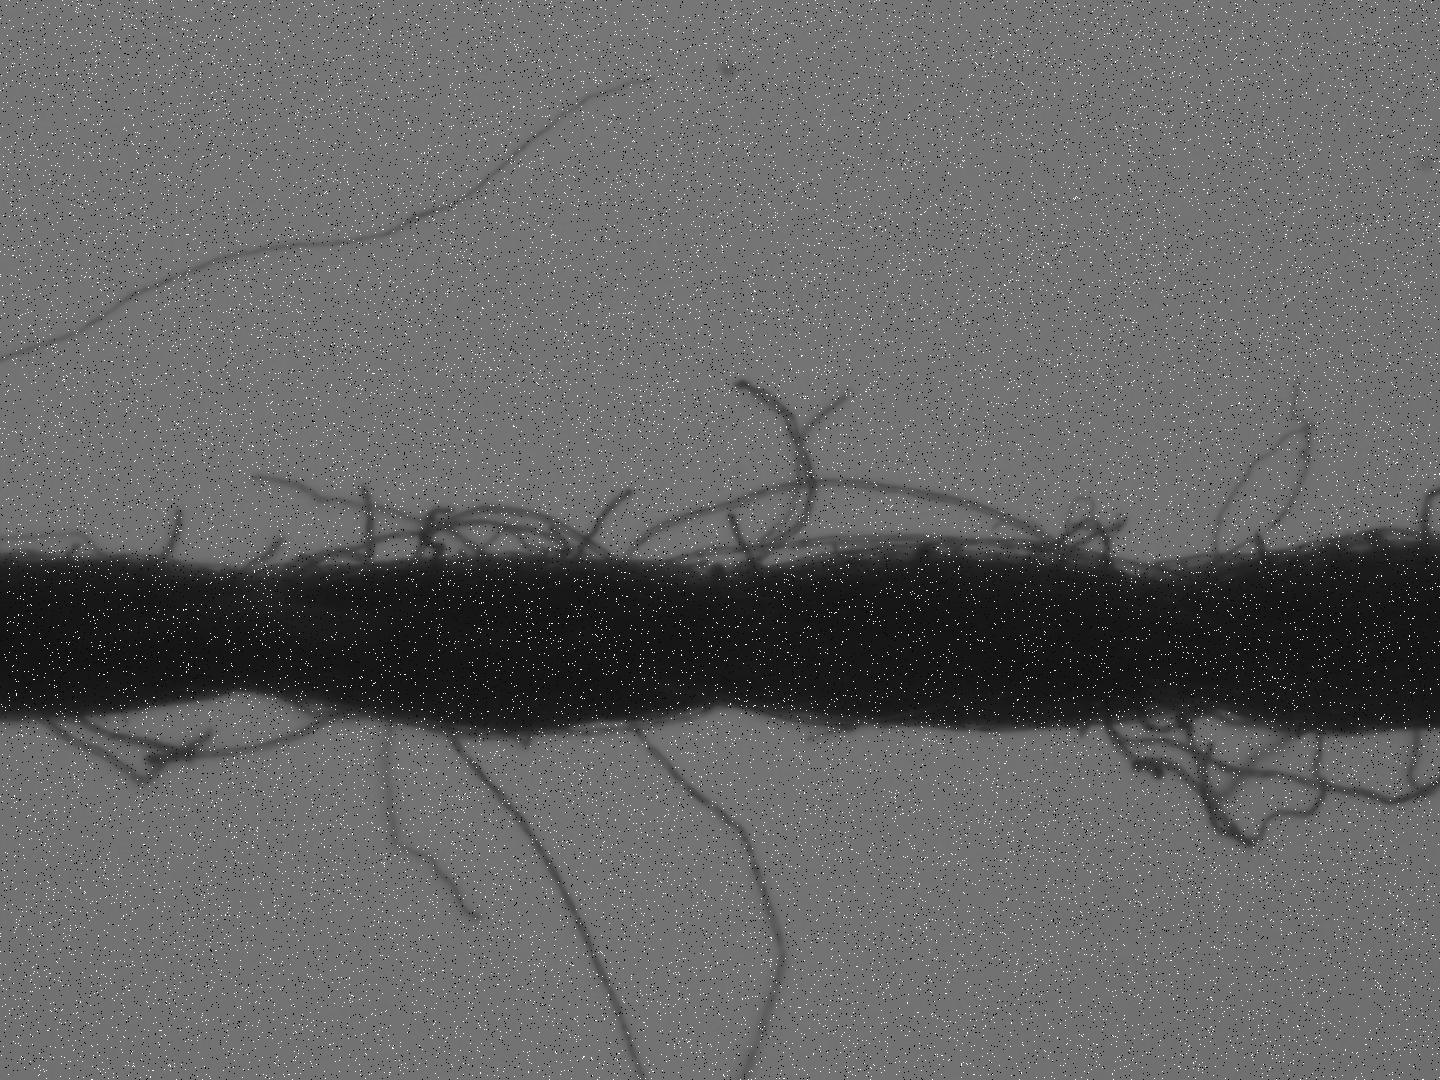loop_fiber: (624, 475, 1058, 572), (283, 518, 568, 567), (917, 535, 1185, 584), (406, 503, 608, 563), (655, 534, 956, 571), (1027, 516, 1113, 575), (1128, 712, 1205, 736)
protruding_fiber: (382, 717, 481, 920), (573, 482, 628, 565), (146, 506, 183, 565), (721, 503, 748, 569), (357, 486, 372, 563)
